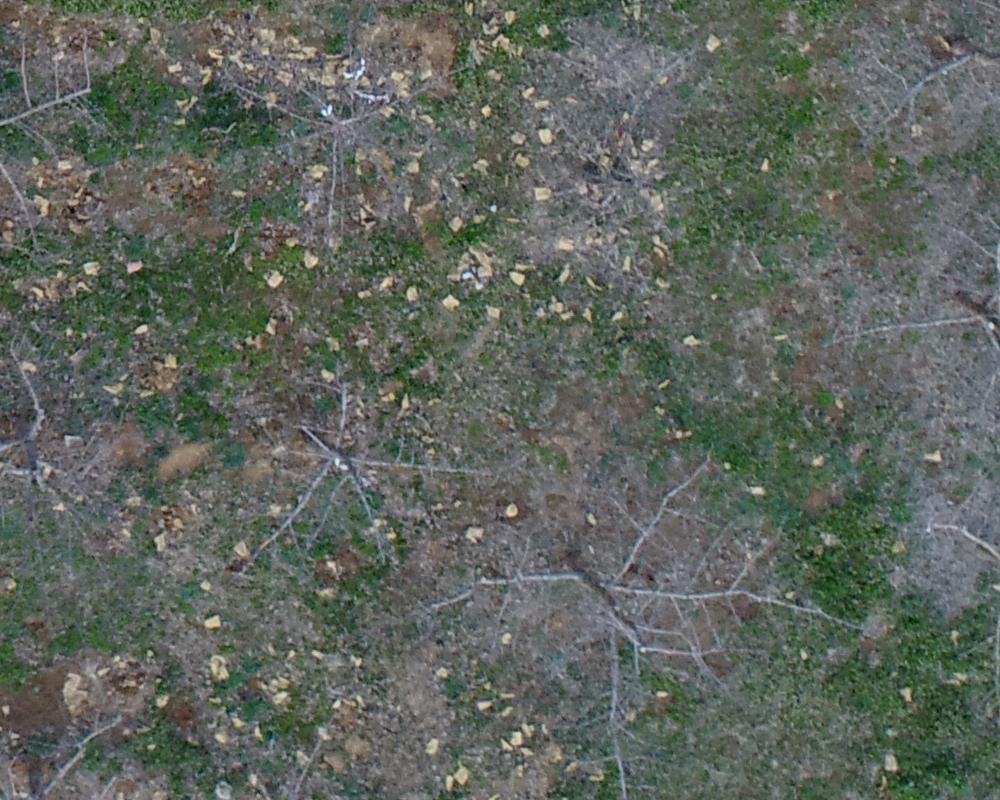apple: (467, 462, 865, 790), (226, 370, 497, 583), (845, 167, 990, 470), (221, 27, 449, 219), (10, 331, 137, 560)
